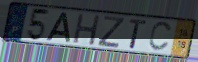5: (26, 7, 50, 42)
A: (45, 11, 72, 44)
C: (147, 21, 174, 53)
H: (71, 12, 102, 47)
T: (128, 18, 148, 50)
Z: (96, 15, 127, 49)
